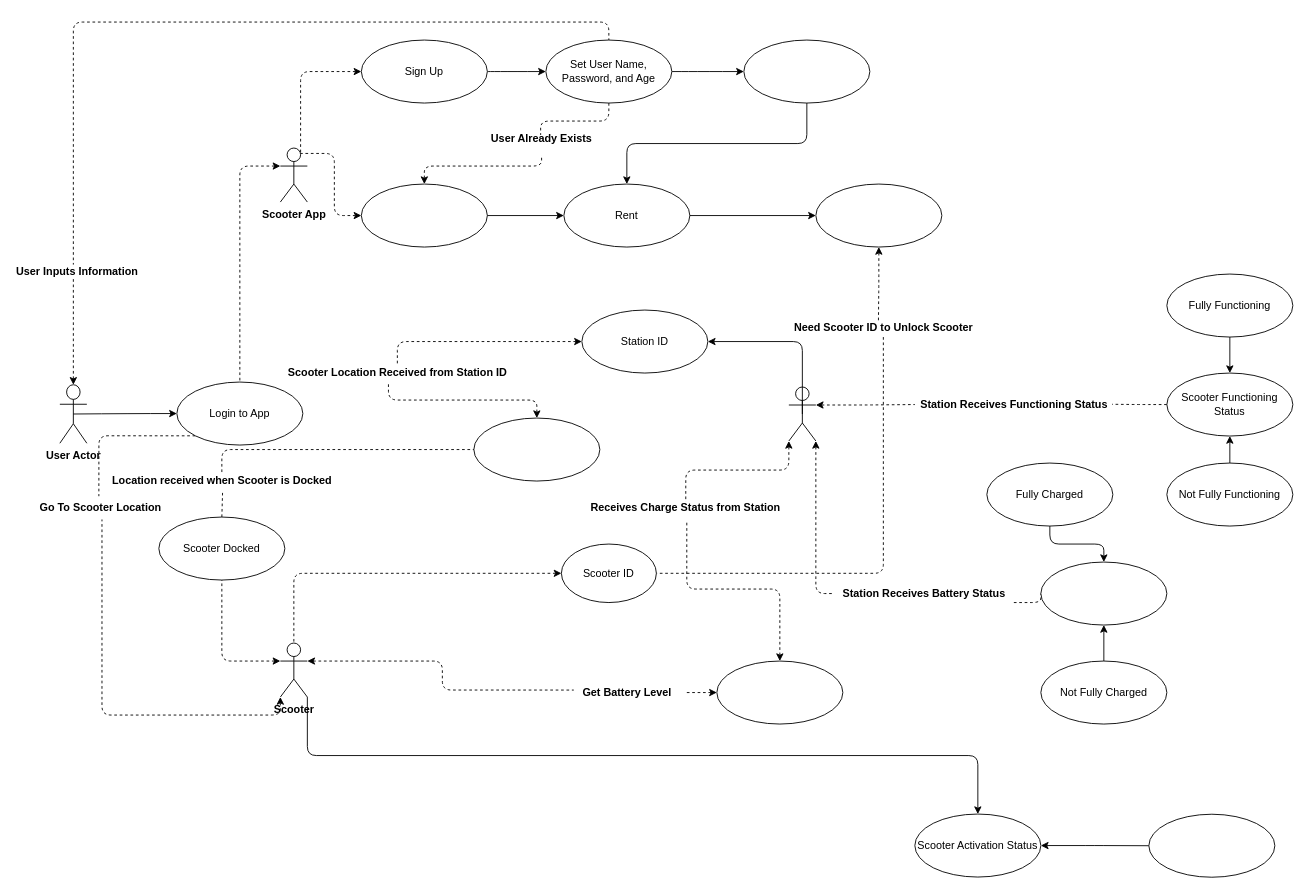
Image size: 1309x894. Some labels were removed from this diagram. The centre of each missing label's shape, as x and y in pixels:
"Battery Charging Status" goes at (x=1103, y=593).
"Deactivated" goes at (x=1211, y=845).
"Returning User" goes at (x=423, y=215).
"Scooter Battery Level" goes at (x=779, y=692).
"Scooter Location" goes at (x=536, y=449).
"Set Payment Info" goes at (x=806, y=71).
"Station" goes at (x=802, y=413).
"Unlock Scooter" goes at (x=878, y=215).
